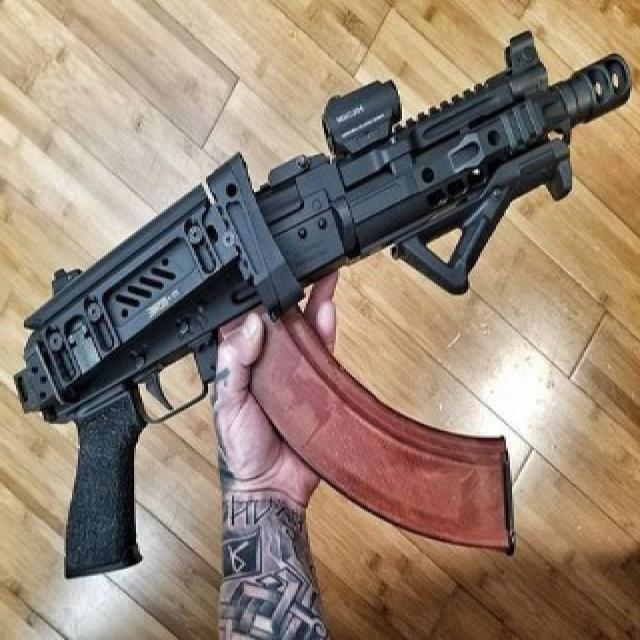rifle: (3, 26, 637, 579)
